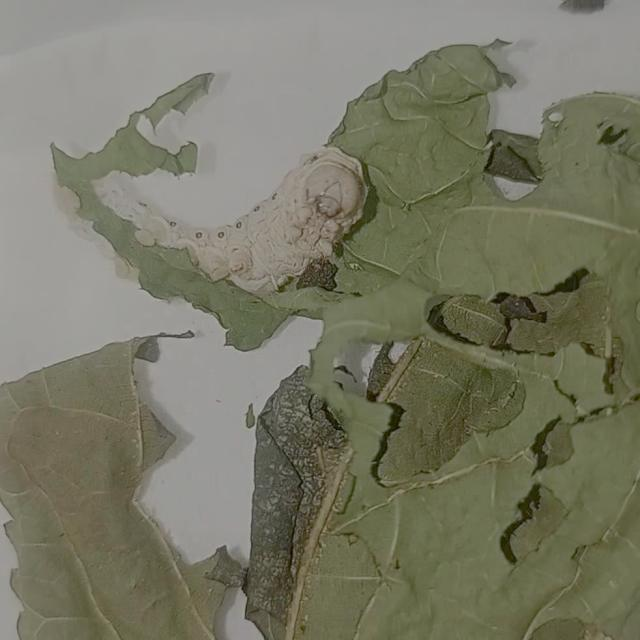Healthy: (31, 52, 409, 344)
